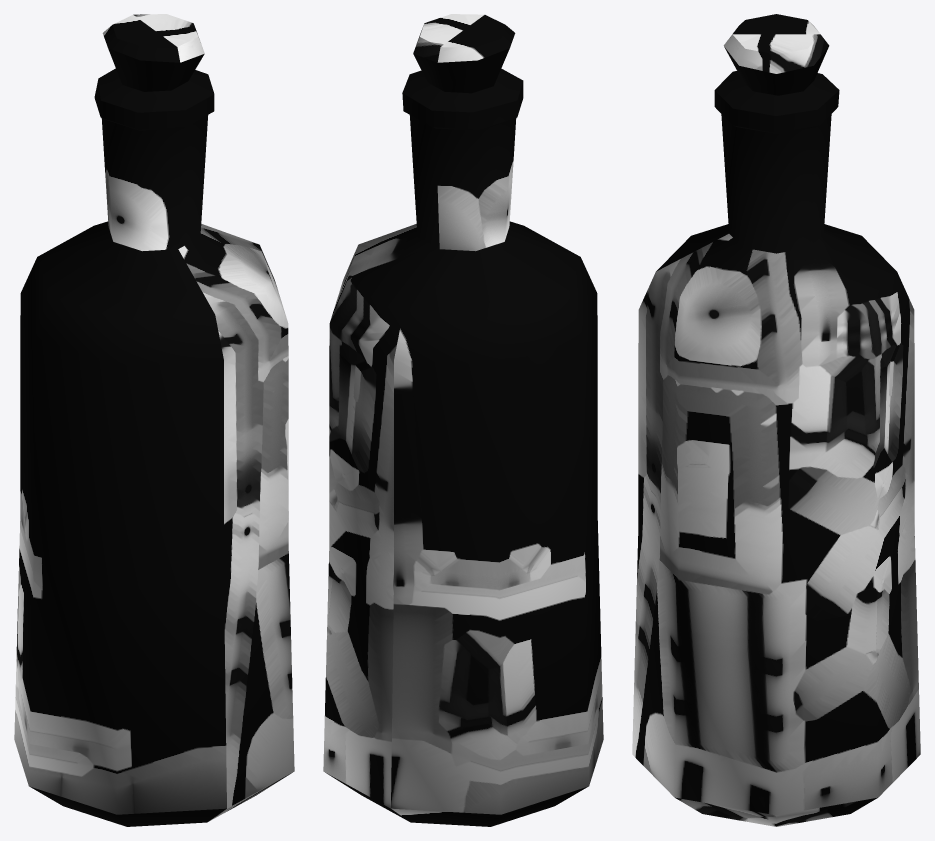
The model's file is Bottle1_V2.fbx.
3 renders of one model, left to right at view 1: azimuth 30°, elevation 25°; view 2: azimuth 150°, elevation 25°; view 3: azimuth 270°, elevation 25°, orthographic.
Parts seen in each view (by area): view 1: Bottle1_V2; view 2: Bottle1_V2; view 3: Bottle1_V2.
Boxes of the visible parts, left/top/right/bottom form: Bottle1_V2: left=14, top=14, right=294, bottom=826; Bottle1_V2: left=323, top=14, right=603, bottom=826; Bottle1_V2: left=632, top=14, right=920, bottom=826.
Size of the model in its own units: 369 by 1058 by 369.
